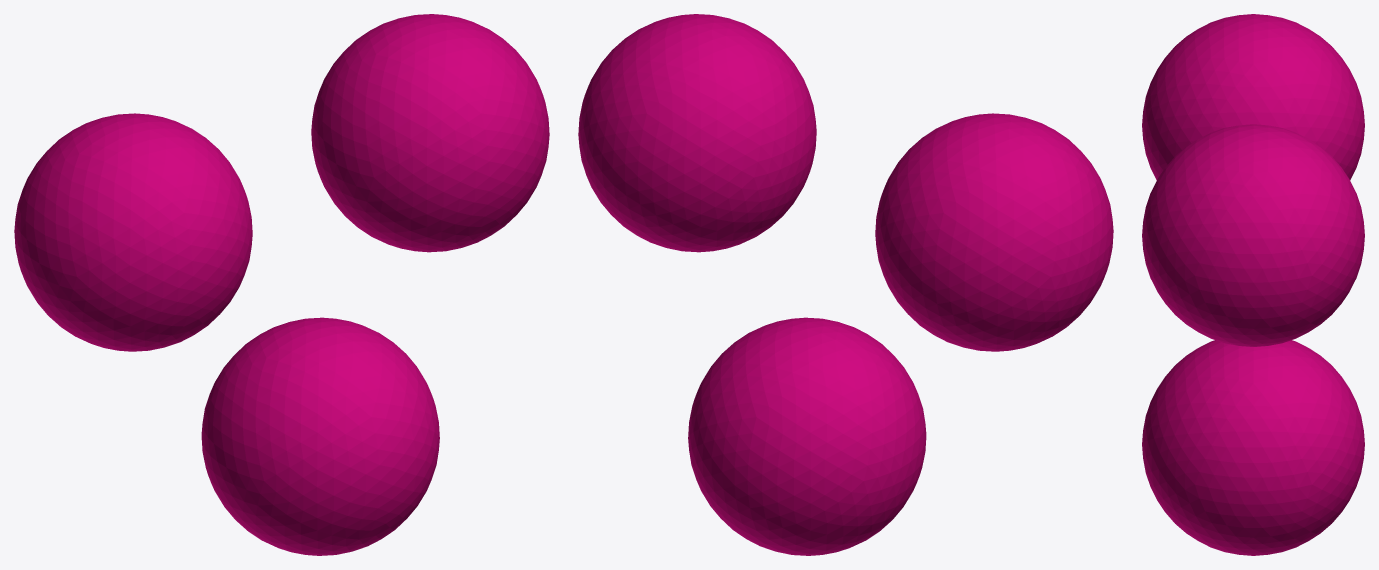
Rendered from ruby-microbeads.web.glb.
The picture shows the model from 3 angles, left to right: view 1: azimuth 30°, elevation 25°; view 2: azimuth 150°, elevation 25°; view 3: azimuth 270°, elevation 25°; orthographic projection. The views are drawn at different scales.
Parts seen in each view (by area): view 1: ruby-microbeads-0, ruby-microbeads-2, ruby-microbeads-1; view 2: ruby-microbeads-0, ruby-microbeads-2, ruby-microbeads-1; view 3: ruby-microbeads-1, ruby-microbeads-2, ruby-microbeads-0.
Part boxes in pixels (bbox=[...]): ruby-microbeads-0: bbox=[14, 113, 252, 351]; ruby-microbeads-2: bbox=[201, 317, 439, 555]; ruby-microbeads-1: bbox=[311, 14, 549, 252]; ruby-microbeads-0: bbox=[875, 113, 1113, 351]; ruby-microbeads-2: bbox=[688, 317, 926, 555]; ruby-microbeads-1: bbox=[578, 14, 816, 252]; ruby-microbeads-1: bbox=[1142, 124, 1364, 346]; ruby-microbeads-2: bbox=[1142, 340, 1364, 555]; ruby-microbeads-0: bbox=[1142, 14, 1364, 180].
Size of the model in its own units: 1.56 by 1.46 by 0.64.
